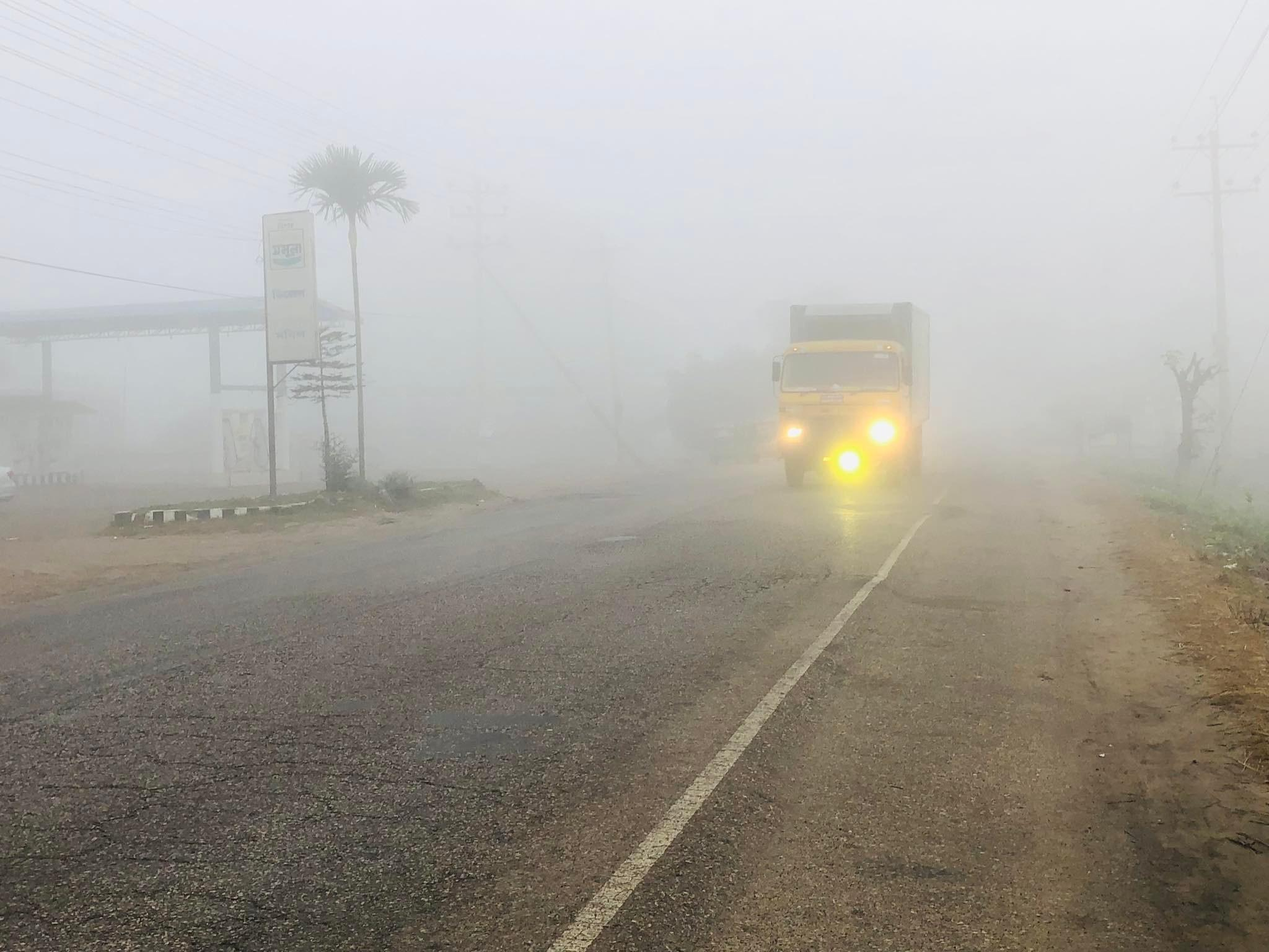Truck: (753, 291, 948, 505)
